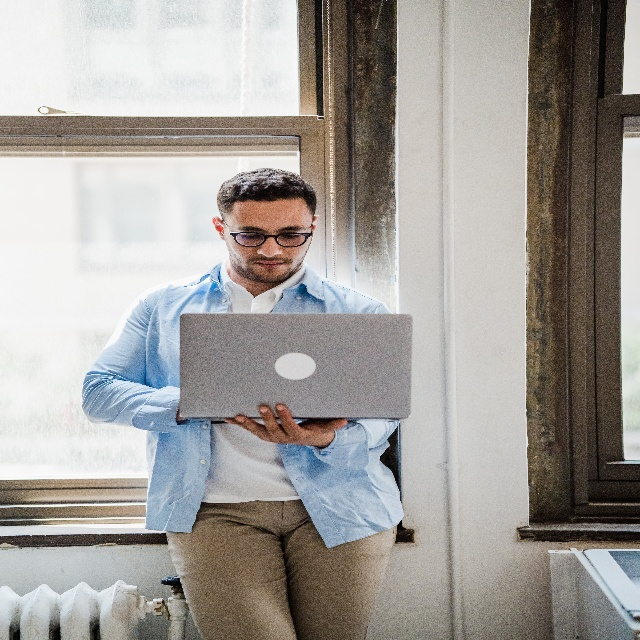Gafas: (222, 218, 312, 247)
Sin_guantes: (226, 404, 348, 446)
